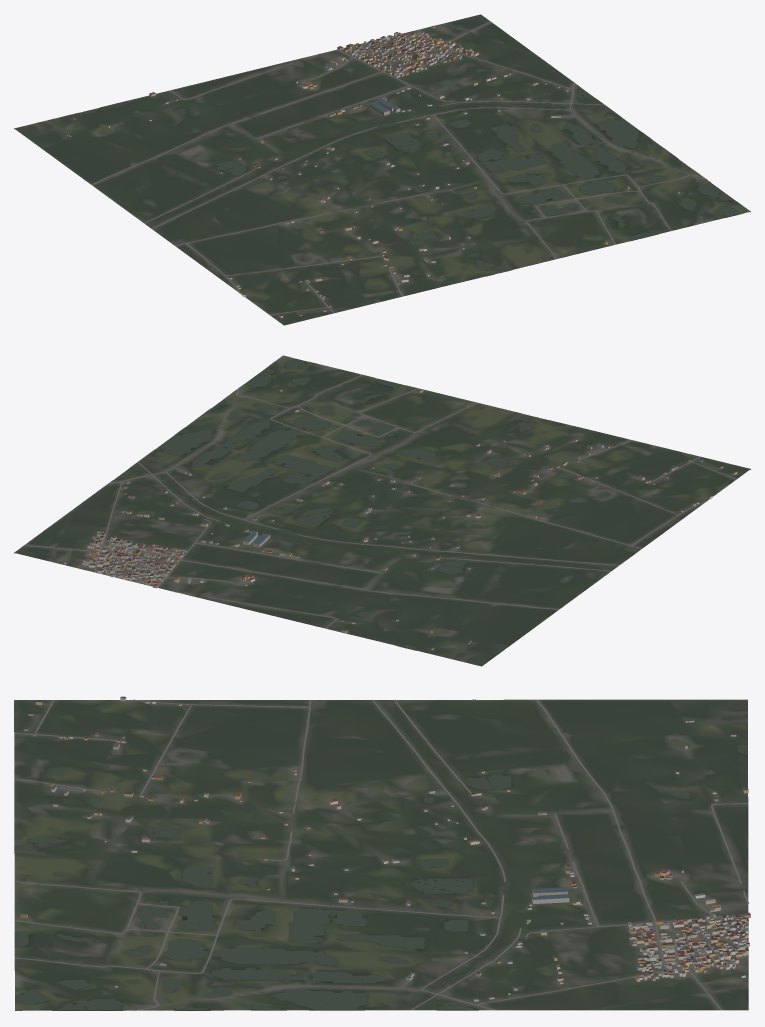
3 renders of one model, top to bottom at view 1: azimuth 30°, elevation 25°; view 2: azimuth 150°, elevation 25°; view 3: azimuth 270°, elevation 25°, orthographic. The views are drawn at different scales.
Parts seen in each view (by area): view 1: ground, water, buildings, roads; view 2: ground, water, buildings, roads; view 3: ground, water, buildings, roads.
Part boxes in pixels (left/top/right/bottom): ground: left=14, top=14, right=750, bottom=325; water: left=69, top=83, right=738, bottom=289; buildings: left=66, top=26, right=679, bottom=317; roads: left=92, top=21, right=706, bottom=314; ground: left=14, top=355, right=750, bottom=666; water: left=116, top=358, right=633, bottom=651; buildings: left=64, top=389, right=737, bottom=650; roads: left=24, top=374, right=736, bottom=628; ground: left=14, top=699, right=748, bottom=1010; water: left=15, top=733, right=747, bottom=1010; buildings: left=20, top=696, right=750, bottom=1001; roads: left=14, top=699, right=748, bottom=1010.
Size of the model in its own units: 1408 by 14.26 by 1408.
